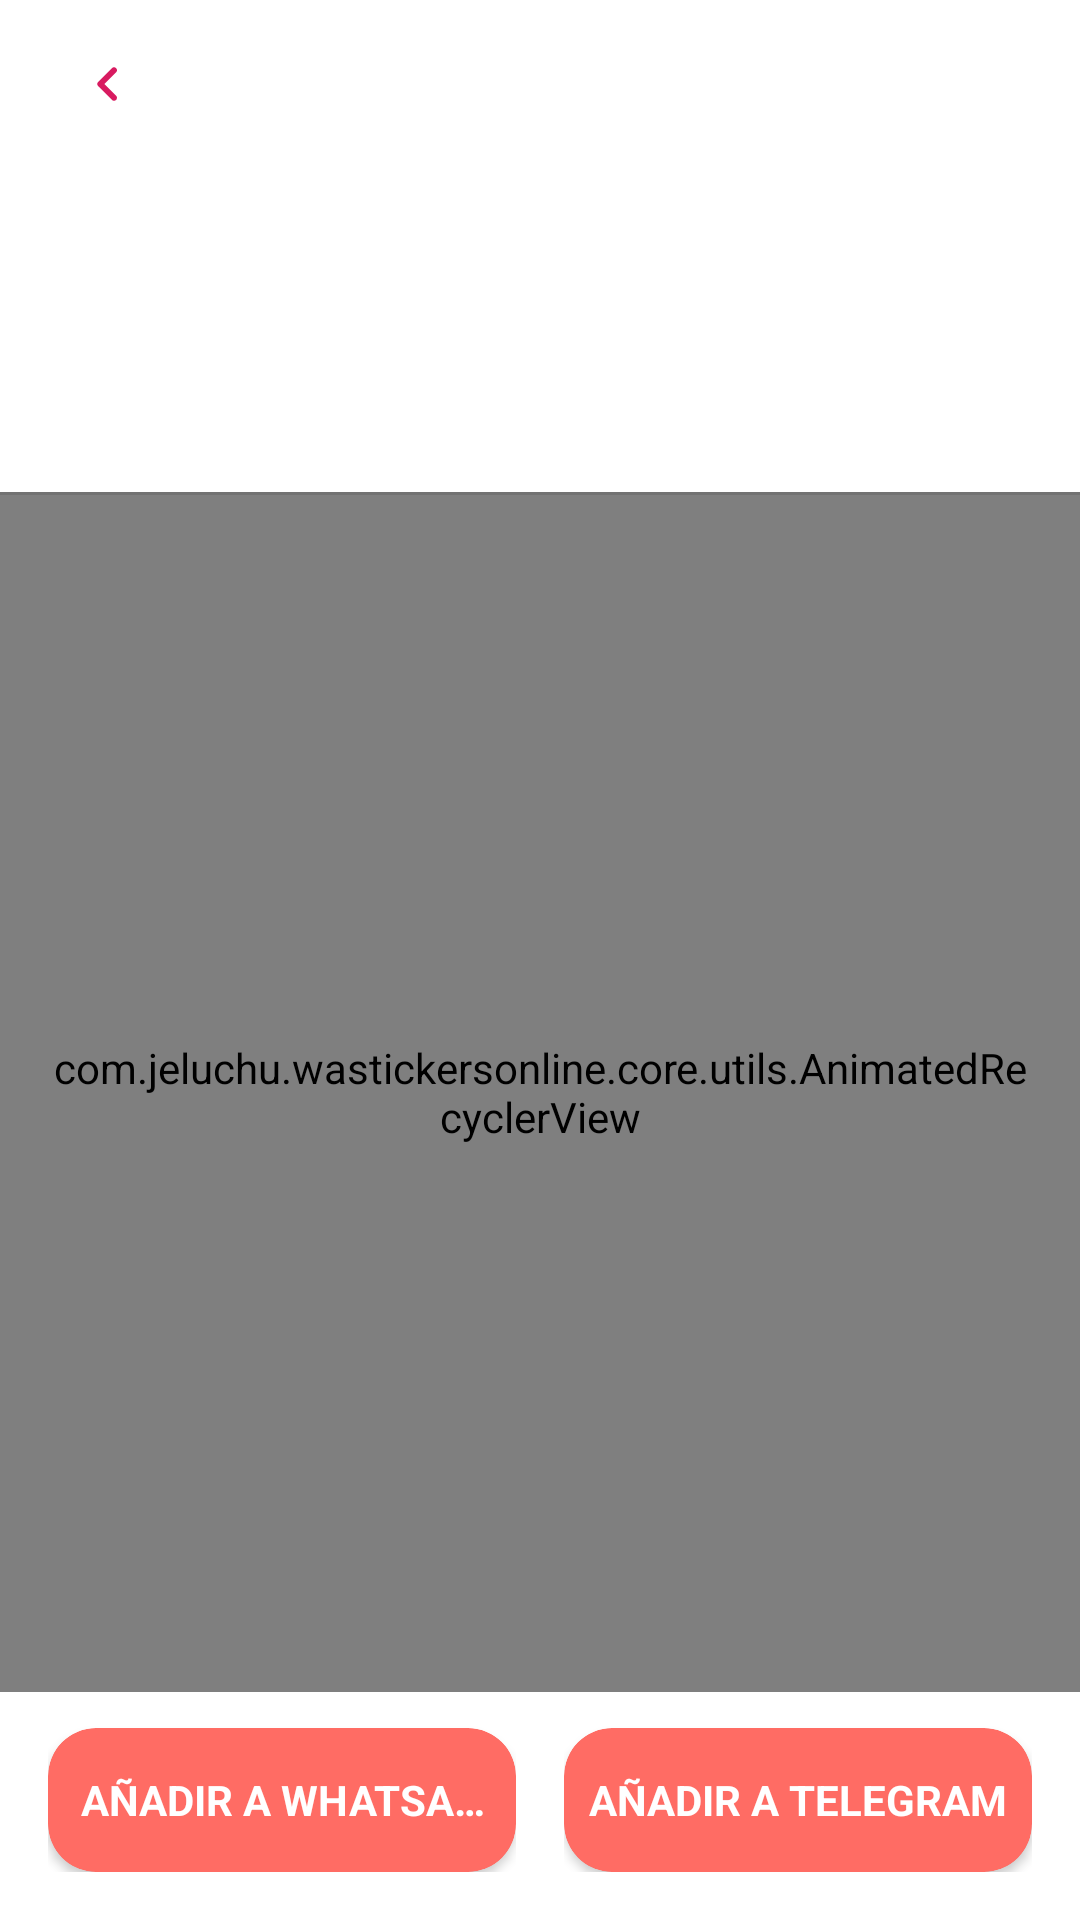

Point at icon controls on the screen. Image size 1080 x 1920, points as point (x, y).
arrow left: point (107, 84)
